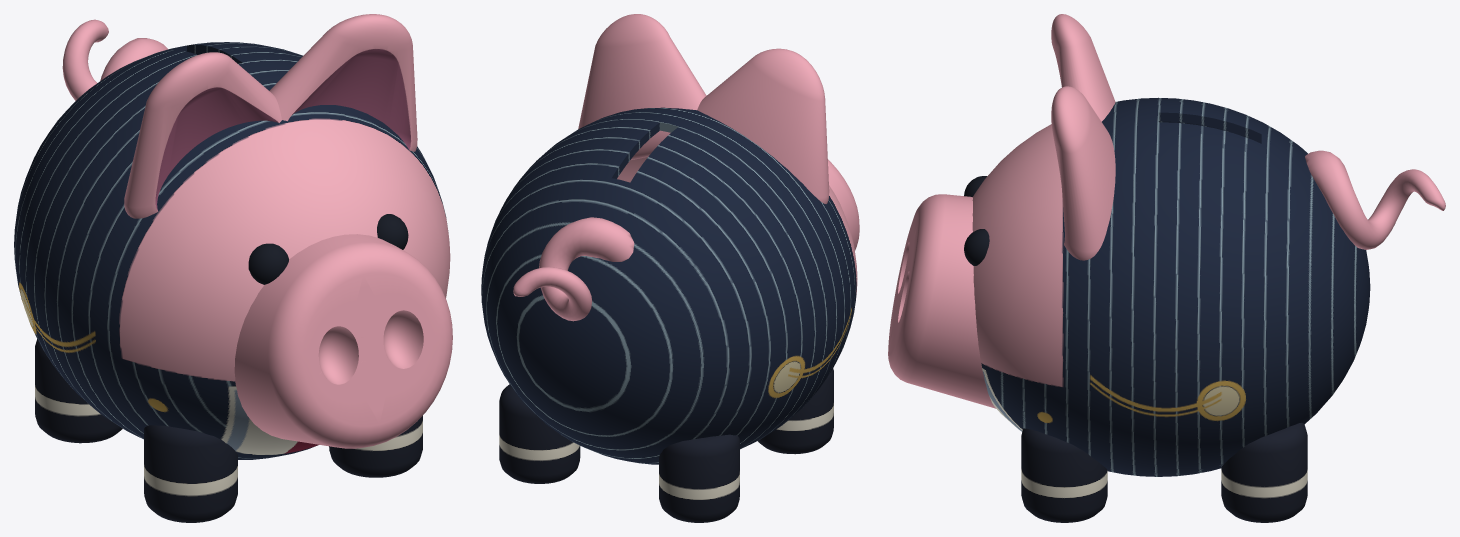
File: banker-og-v2-complete.fbx
The picture shows the model from 3 angles, left to right: view 1: azimuth 30°, elevation 25°; view 2: azimuth 150°, elevation 25°; view 3: azimuth 270°, elevation 25°; orthographic projection. The views are drawn at different scales.
Visible parts, largest first — view 1: Body, Snout, Ears, Legs, Tail, EyePreview; view 2: Body, Ears, Legs, Tail, Snout; view 3: Body, Snout, Legs, Ears, Tail, EyePreview.
Part boxes in pixels (x1=…): Body: x1=14, y1=42, x2=450, y2=459; Snout: x1=234, y1=234, x2=452, y2=448; Ears: x1=124, y1=14, x2=417, y2=218; Legs: x1=35, y1=339, x2=422, y2=522; Tail: x1=62, y1=19, x2=167, y2=100; EyePreview: x1=248, y1=214, x2=408, y2=284; Body: x1=481, y1=107, x2=857, y2=464; Ears: x1=578, y1=14, x2=829, y2=203; Legs: x1=499, y1=368, x2=833, y2=522; Tail: x1=513, y1=217, x2=634, y2=321; Snout: x1=828, y1=159, x2=859, y2=250; Body: x1=972, y1=97, x2=1370, y2=476; Snout: x1=888, y1=194, x2=996, y2=408; Legs: x1=1021, y1=422, x2=1307, y2=522; Ears: x1=1051, y1=14, x2=1115, y2=260; Tail: x1=1305, y1=150, x2=1445, y2=249; EyePreview: x1=964, y1=176, x2=989, y2=265.
Bounding box in the file's own units: 1200 × 1397 × 1708.
3 materials, 2 textured.
